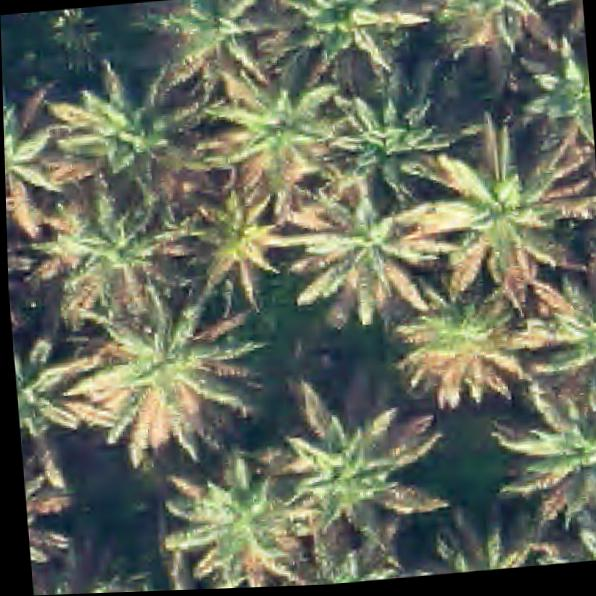oilpalm: (51, 283, 265, 473), (264, 389, 438, 556), (406, 134, 578, 298), (288, 167, 436, 325), (40, 182, 193, 319), (164, 456, 318, 590), (201, 52, 340, 200), (46, 69, 191, 208), (393, 271, 525, 423), (312, 75, 447, 199), (174, 186, 302, 313), (489, 388, 596, 531), (156, 0, 281, 91), (274, 0, 421, 75), (530, 33, 595, 162), (3, 100, 50, 222), (428, 0, 541, 44)
